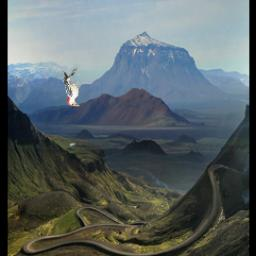Woodpecker: (64, 68, 82, 107)
